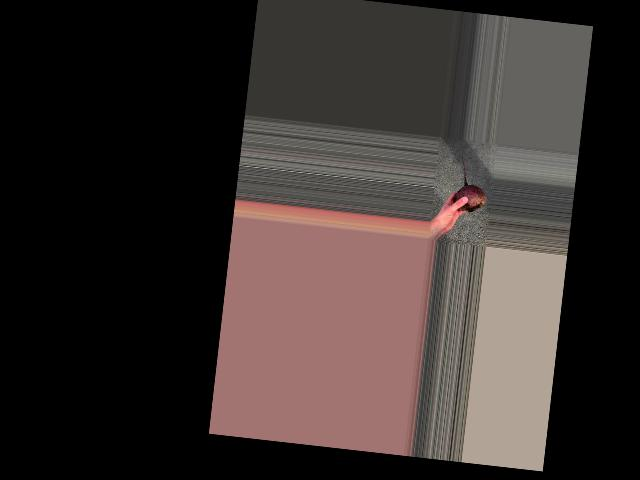beet: (454, 156, 490, 213)
